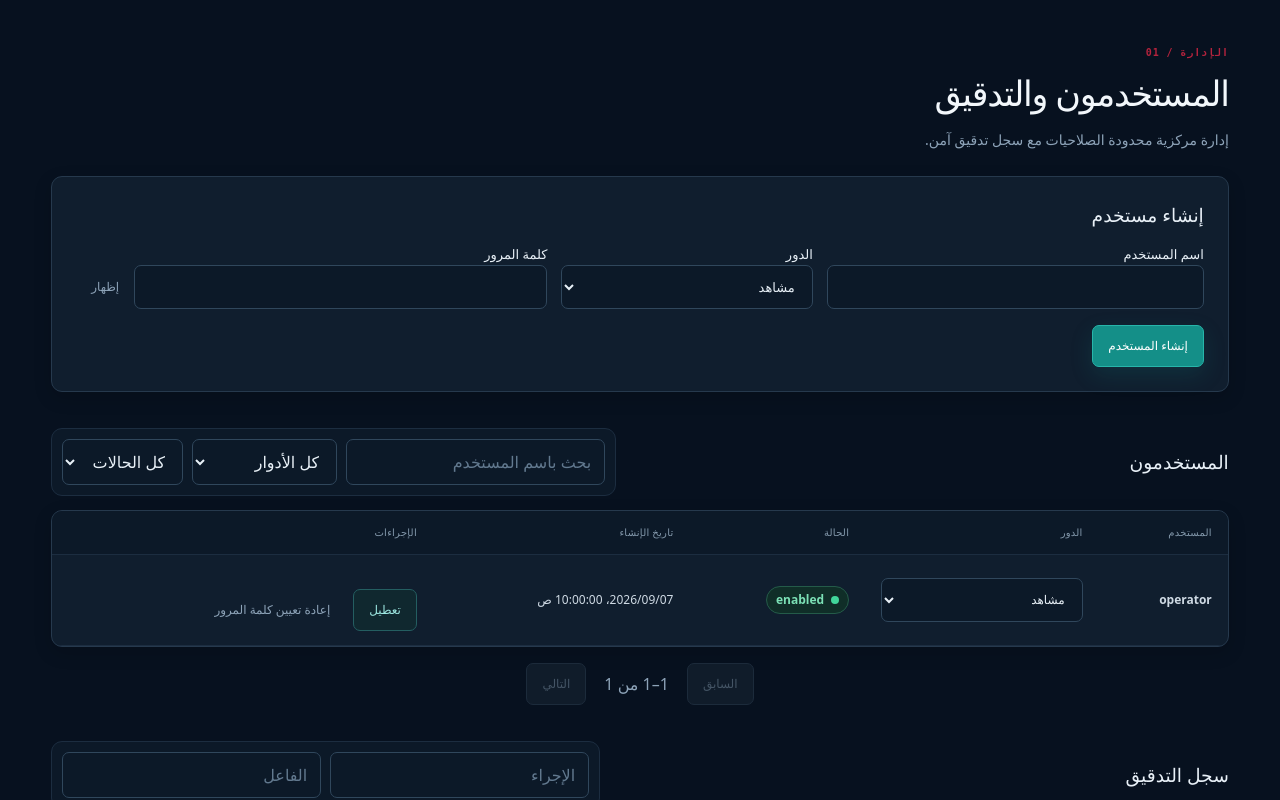
administration frontend › creates a user once and clears the submitted password
Expected: the cell "operator" is shown, [1099, 554, 1228, 645]
Type "new.user" into the field labelled "اسم المستخدم" at (1015, 287), box [827, 265, 1204, 309]
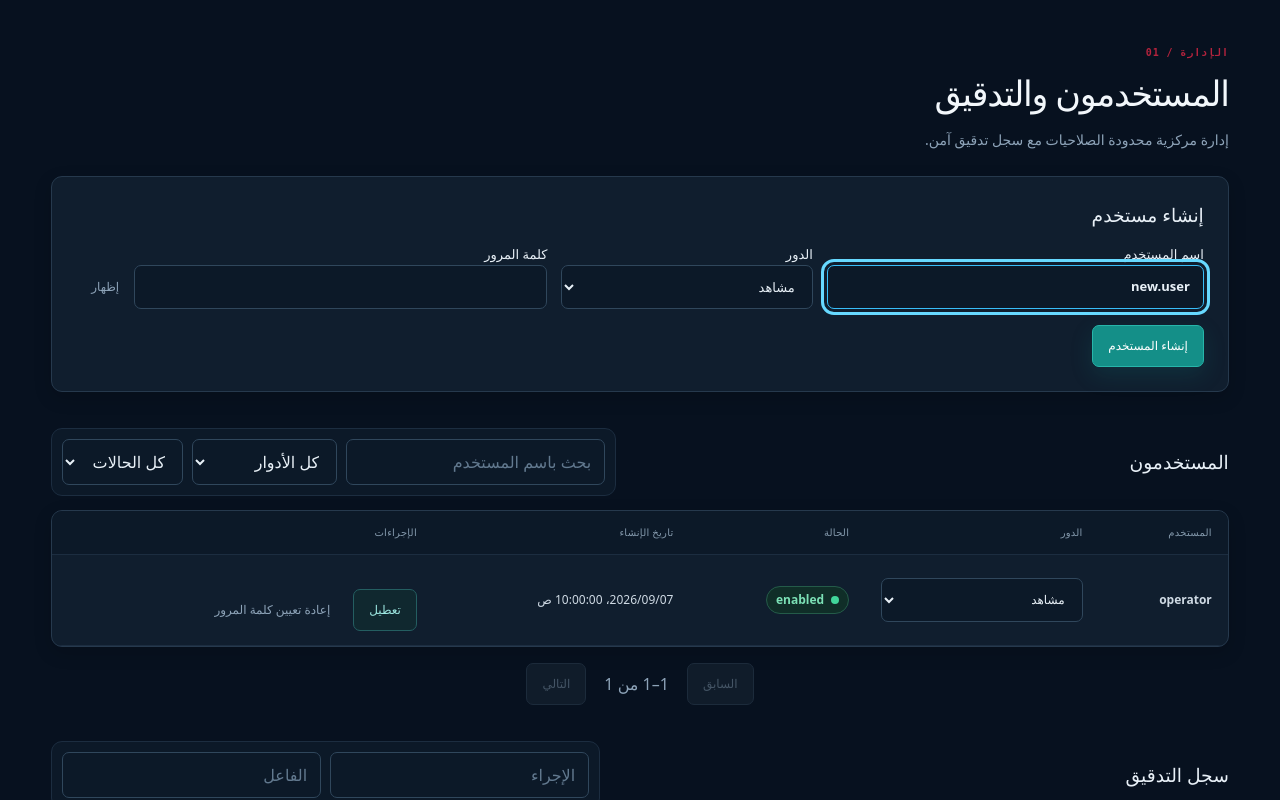
Type "SecurePassword123!" into the password field named "كلمة مرور المستخدم الجديد" at (341, 287), box [134, 265, 548, 309]
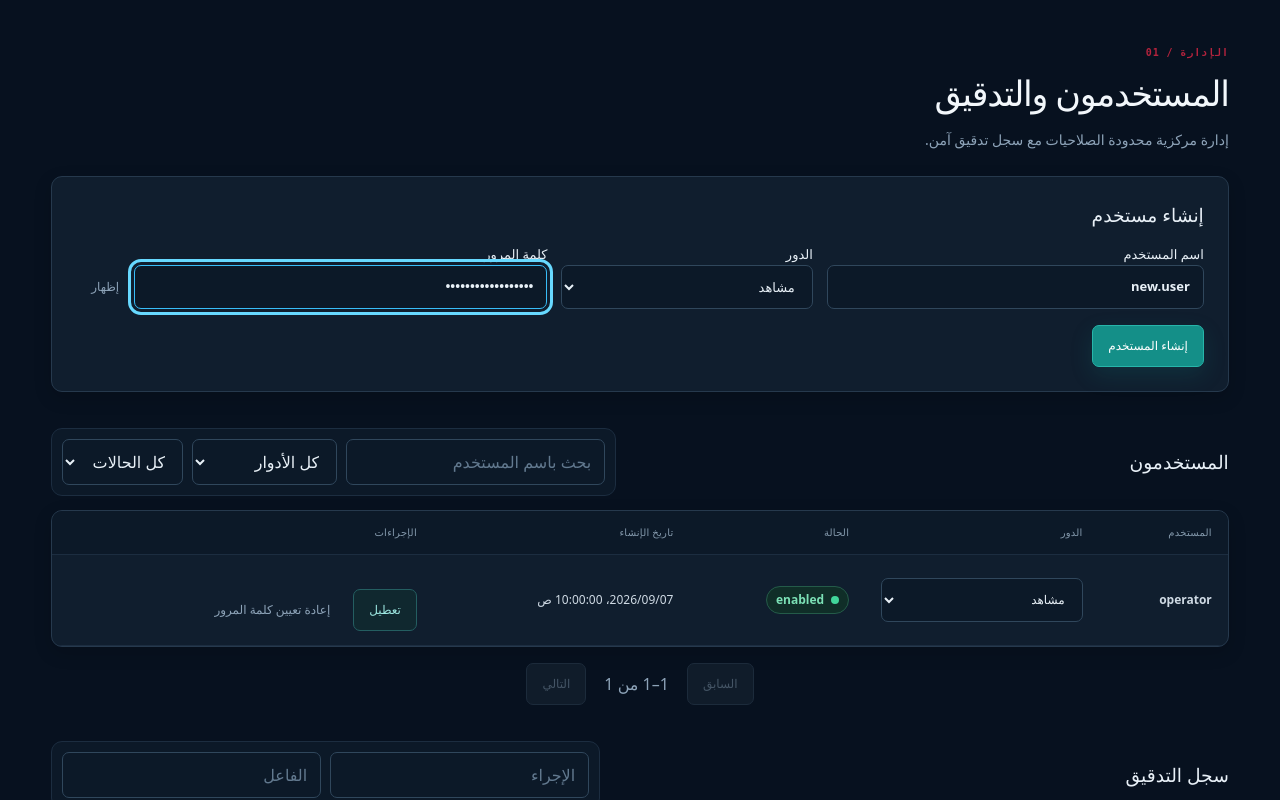
Select "محلل تهديدات" in the dropdown labelled "الدور" at (687, 287), box [562, 265, 813, 309]
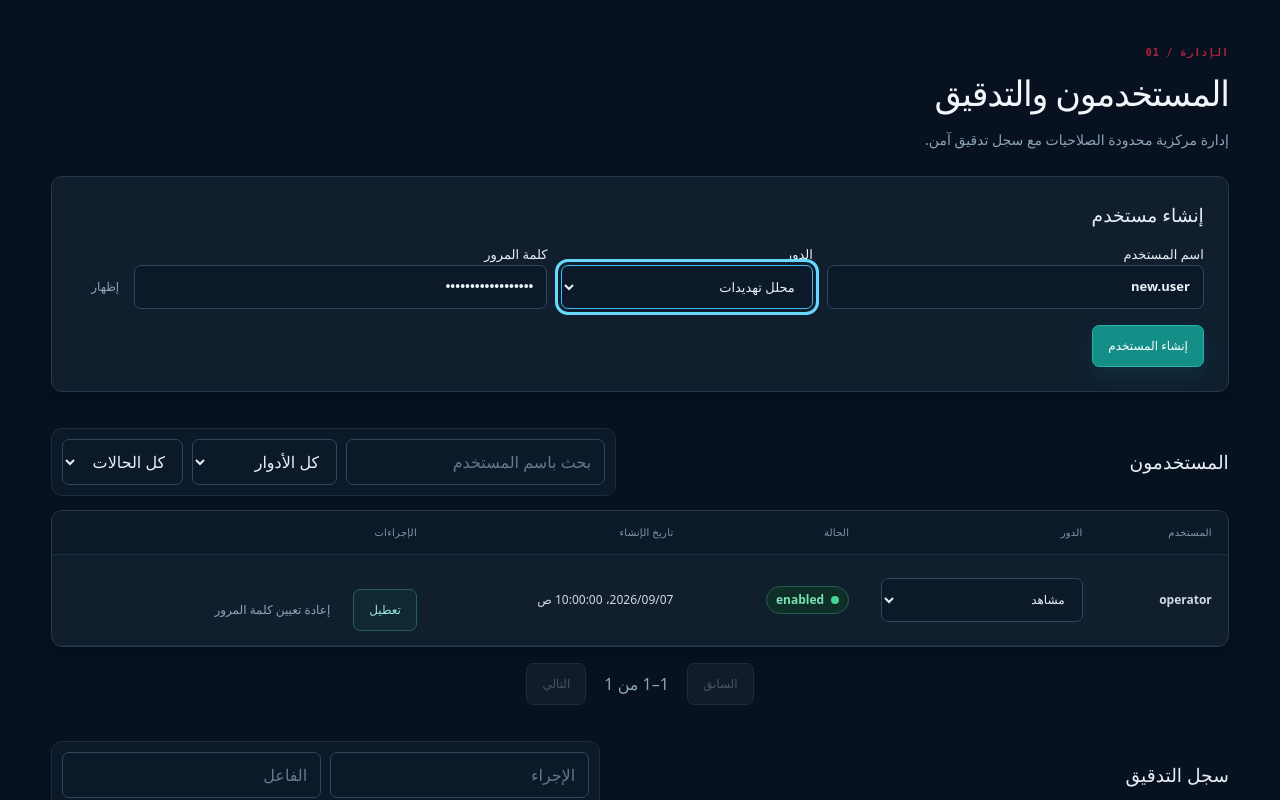
Click the button "إنشاء المستخدم" at (1148, 346), box [1092, 325, 1204, 367]
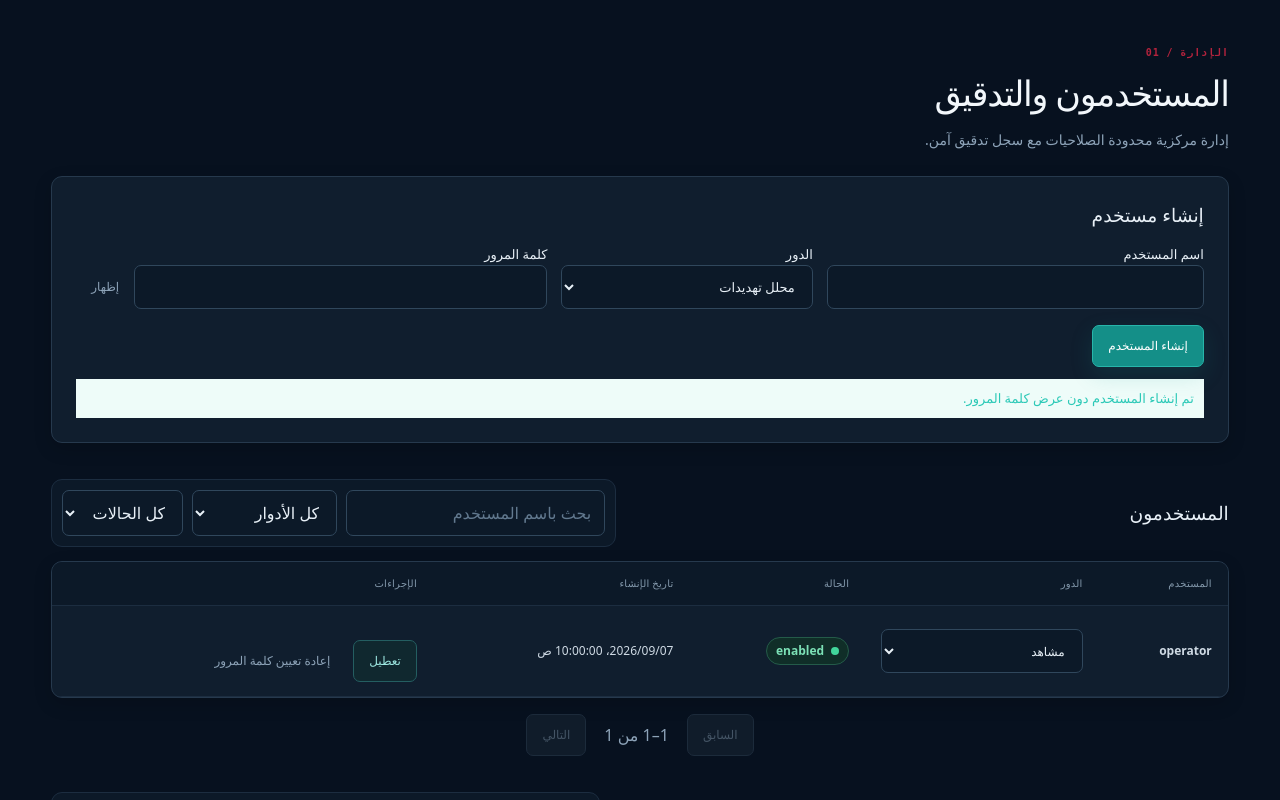
Expected: the text "تم إنشاء المستخدم دون عرض كلمة المرور." is shown, [76, 379, 1204, 418]
Expected: the password field named "كلمة مرور المستخدم الجديد" is empty, [134, 265, 548, 309]
